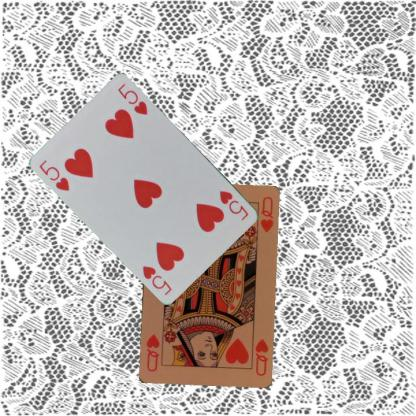5h: (36, 158, 71, 192), (217, 188, 250, 222)
Qh: (252, 335, 270, 377)
